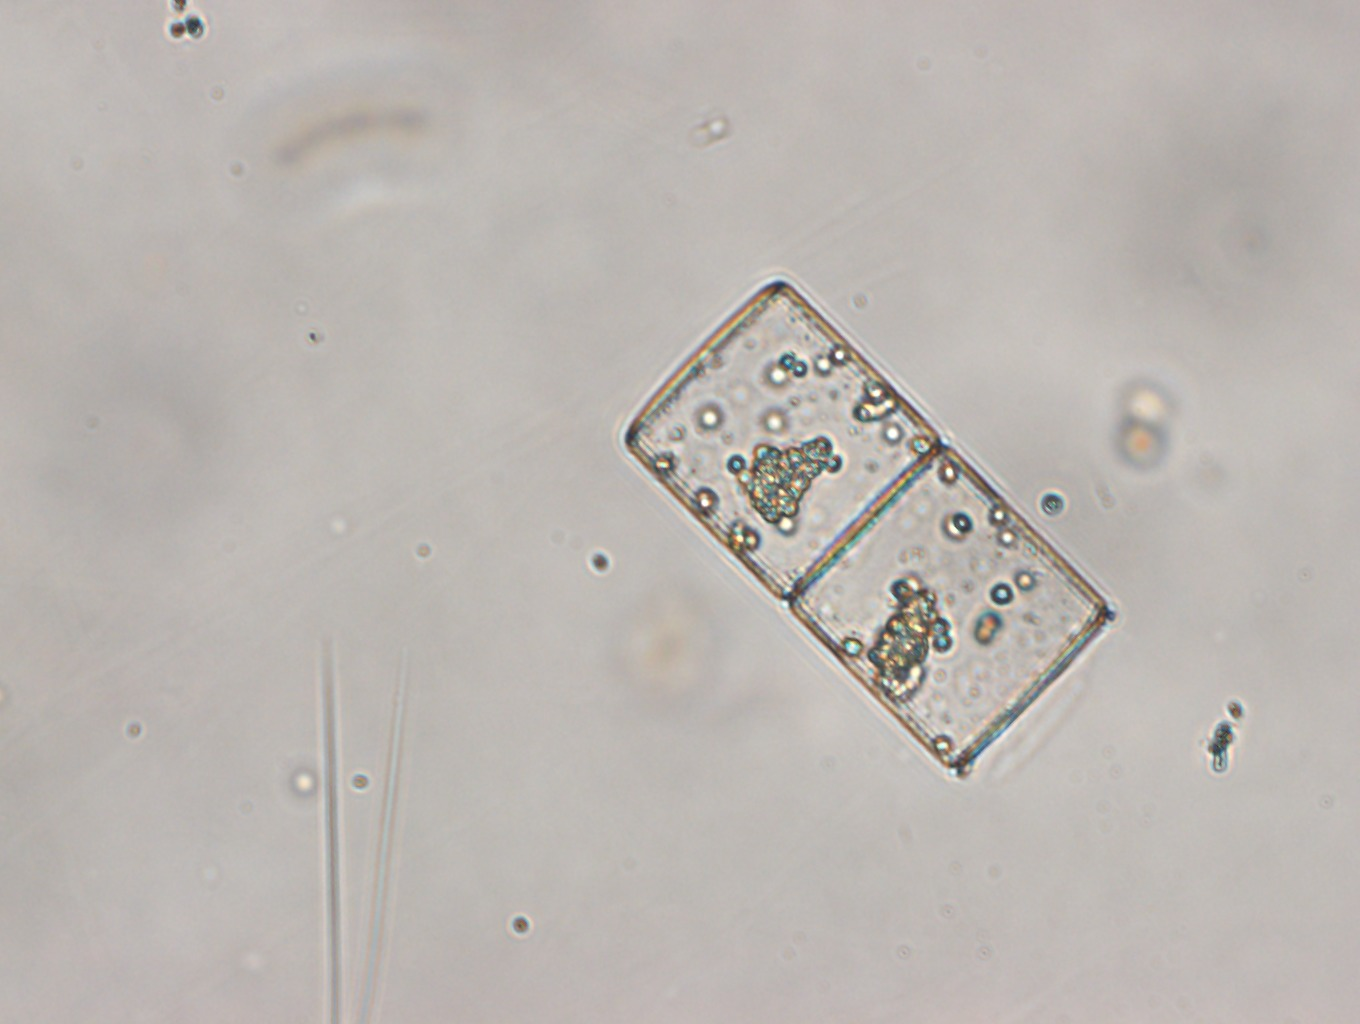guinardia flaccida: (619, 276, 1115, 780)
